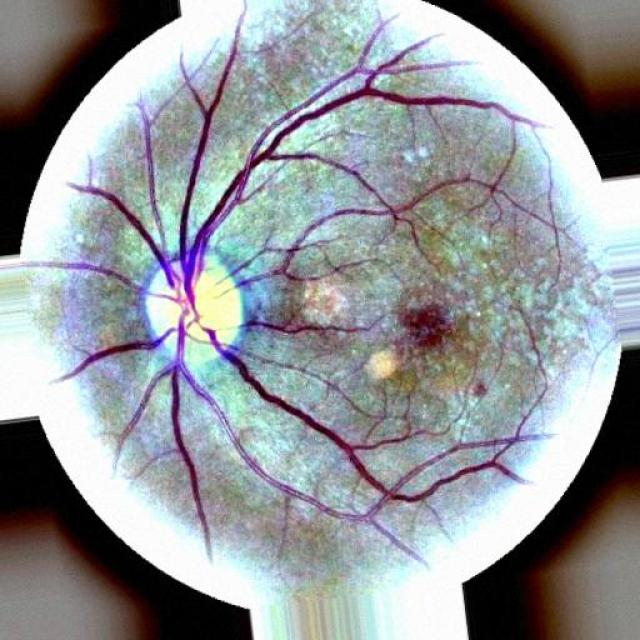Macula: (398, 303, 451, 350)
Nerves: (62, 22, 514, 555)
Optic Disk: (185, 259, 241, 364), (145, 259, 196, 362)
